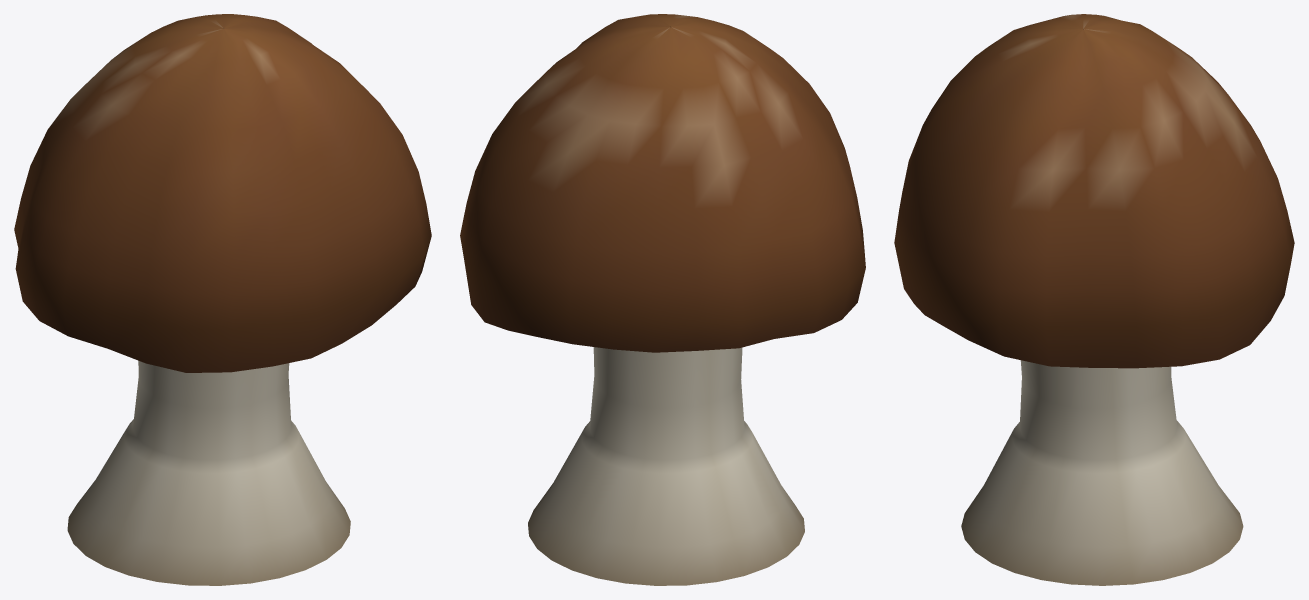
Rendered from mushroom-giant-bolete-a.glb.
The picture shows the model from 3 angles, left to right: view 1: azimuth 30°, elevation 25°; view 2: azimuth 150°, elevation 25°; view 3: azimuth 270°, elevation 25°; orthographic projection. The views are drawn at different scales.
Parts seen in each view (by area): view 1: mushroom-giant-bolete-a; view 2: mushroom-giant-bolete-a; view 3: mushroom-giant-bolete-a.
Part boxes in pixels (x1,y1,x2,y2): mushroom-giant-bolete-a: (14, 14, 431, 585); mushroom-giant-bolete-a: (460, 14, 865, 585); mushroom-giant-bolete-a: (894, 14, 1294, 585).
Size of the model in its own units: 0.9293 by 1.25 by 0.9075.
